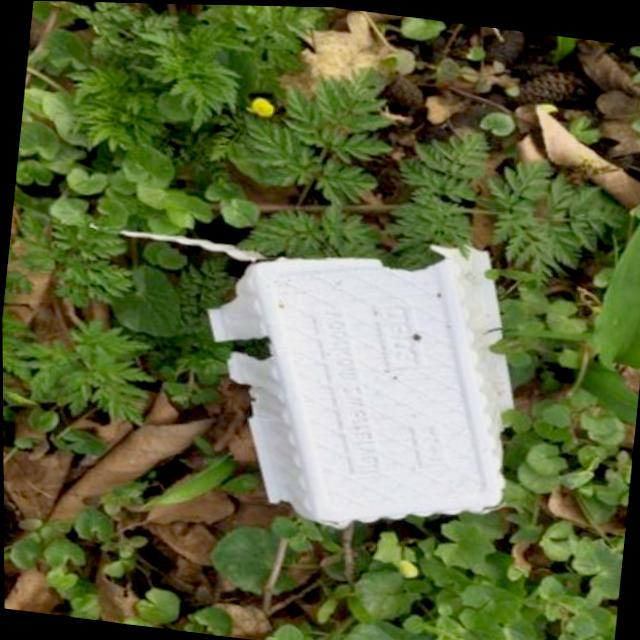Plastic: (57, 192, 534, 549)
